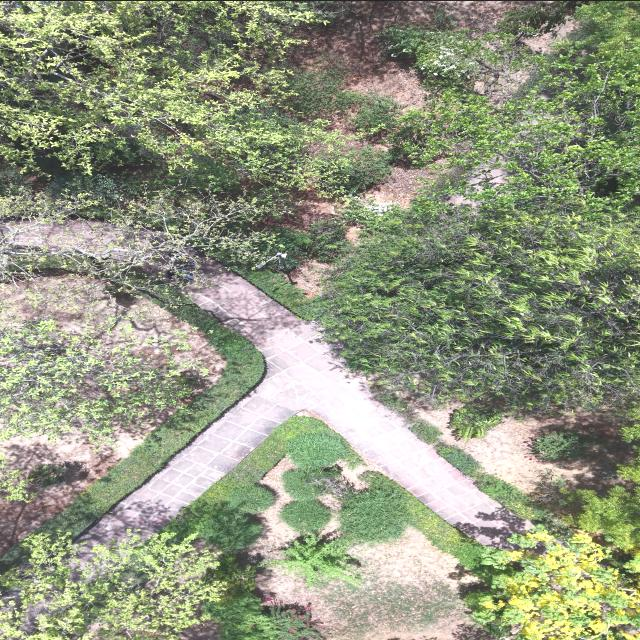DRY_AREA: (86, 270, 527, 544), (287, 1, 533, 109), (255, 527, 492, 639), (255, 528, 492, 639), (287, 1, 530, 109), (288, 1, 530, 108), (287, 1, 528, 107), (0, 407, 175, 552), (413, 401, 635, 507), (416, 406, 634, 497), (290, 1, 531, 81), (0, 218, 147, 259), (177, 620, 220, 639)
PATHWAYS: (82, 270, 529, 545)
VEGETATION_TREE: (1, 2, 499, 289), (2, 417, 639, 639), (321, 2, 639, 441), (321, 2, 639, 412), (0, 1, 395, 307), (1, 1, 398, 298), (0, 1, 391, 296), (1, 1, 385, 301), (321, 190, 639, 410), (1, 1, 349, 191), (37, 305, 262, 535), (1, 484, 318, 639), (394, 2, 637, 201), (1, 1, 281, 171), (166, 417, 329, 639), (0, 179, 283, 303), (2, 193, 271, 307), (0, 306, 207, 446), (466, 479, 639, 639), (164, 416, 359, 551), (0, 318, 207, 444), (0, 534, 222, 639), (165, 416, 330, 553), (467, 529, 639, 639), (284, 66, 400, 193), (279, 428, 405, 541), (350, 471, 481, 569), (436, 444, 571, 535), (381, 25, 534, 93), (201, 555, 324, 639), (556, 446, 639, 549), (325, 579, 467, 639), (279, 428, 358, 533), (284, 64, 400, 134), (162, 483, 274, 551), (472, 471, 566, 533), (383, 26, 488, 81), (203, 592, 324, 639), (253, 217, 351, 272), (164, 501, 262, 550), (566, 485, 639, 549), (268, 534, 359, 585), (234, 263, 316, 318), (284, 65, 361, 118), (338, 484, 406, 541), (323, 141, 391, 193), (204, 594, 277, 639), (526, 470, 571, 535), (499, 0, 582, 35), (286, 429, 357, 468), (257, 225, 313, 271), (207, 552, 255, 599), (346, 94, 401, 135), (282, 466, 349, 499), (526, 430, 591, 460), (310, 217, 352, 263), (448, 405, 502, 440), (282, 467, 340, 499), (271, 605, 323, 639), (279, 499, 331, 532), (26, 461, 86, 487), (436, 444, 482, 477), (0, 457, 33, 501), (226, 483, 274, 513), (282, 467, 323, 499), (309, 467, 351, 498), (371, 384, 409, 414), (295, 1, 347, 22), (27, 463, 69, 486), (615, 446, 639, 482), (407, 419, 441, 443)
